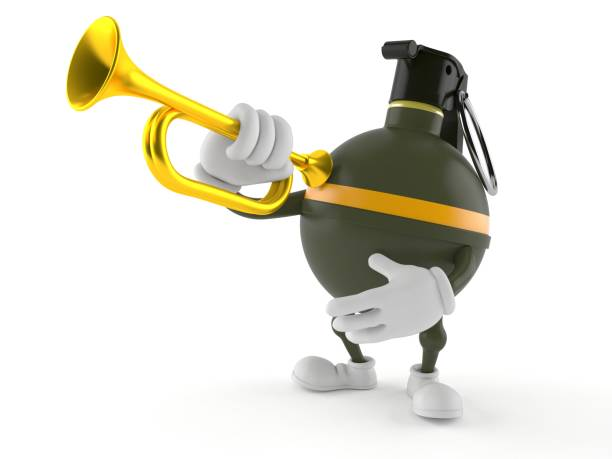e1: (298, 37, 498, 311)
